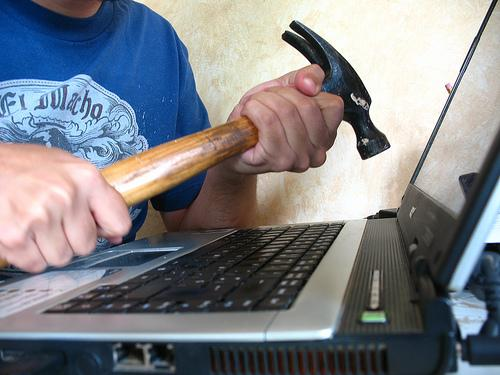hammer: (103, 16, 394, 195)
